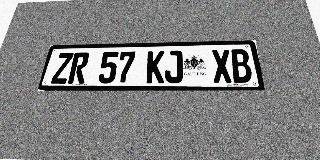5: (98, 52, 119, 83)
7: (116, 51, 136, 83)
B: (230, 49, 253, 83)
J: (165, 50, 183, 83)
K: (146, 51, 165, 83)
R: (67, 52, 90, 84)
X: (211, 49, 233, 83)
Z: (50, 53, 74, 84)
